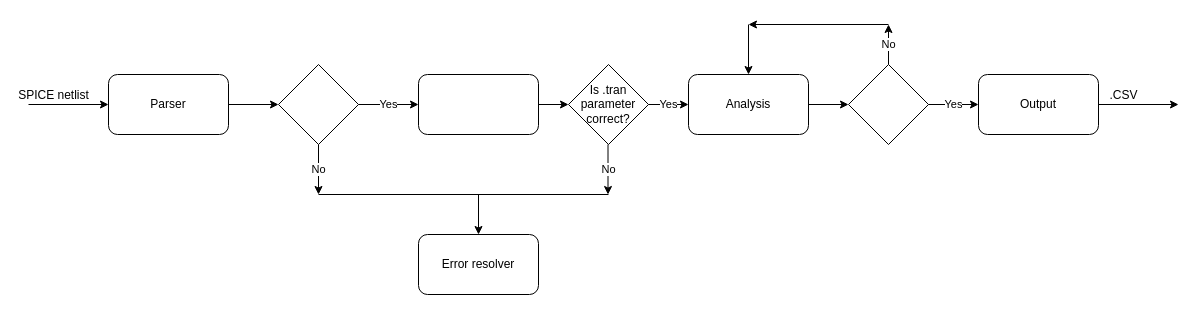
The diagram is 1204 pixels wide and 312 high, and some of its shapes have lost their labels. Each missing label, with the centre of its shape:
Check semantic correct?: (x=318, y=104)
End of transient?: (x=888, y=104)
Transient: (x=478, y=104)
